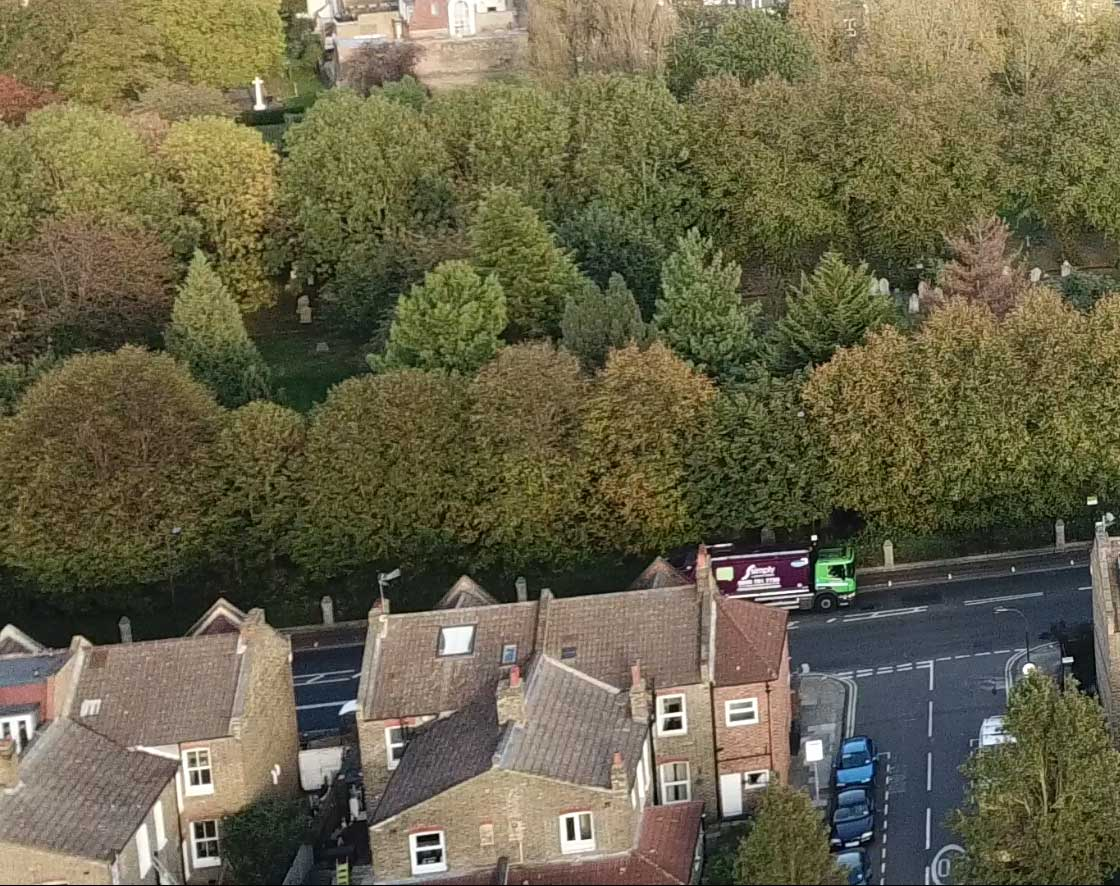trees: (6, 54, 1093, 498)
